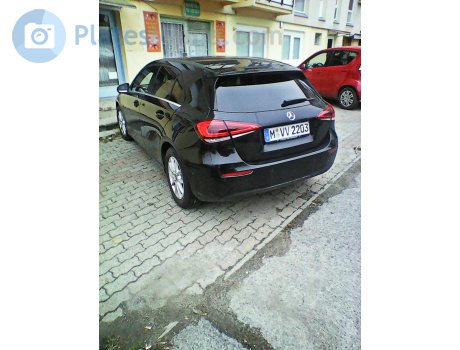License Plates: (269, 122, 317, 135)
